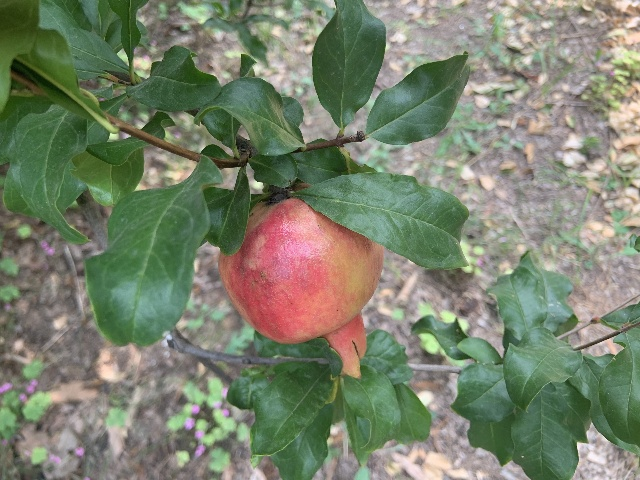ripe: (217, 197, 383, 378)
